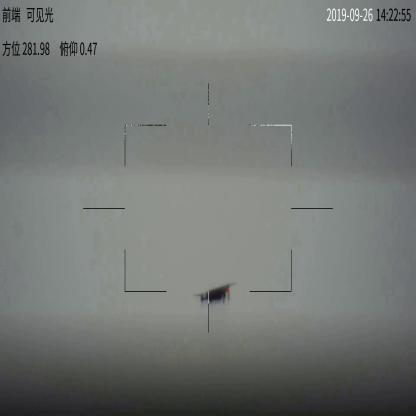uav: (197, 279, 234, 304)
